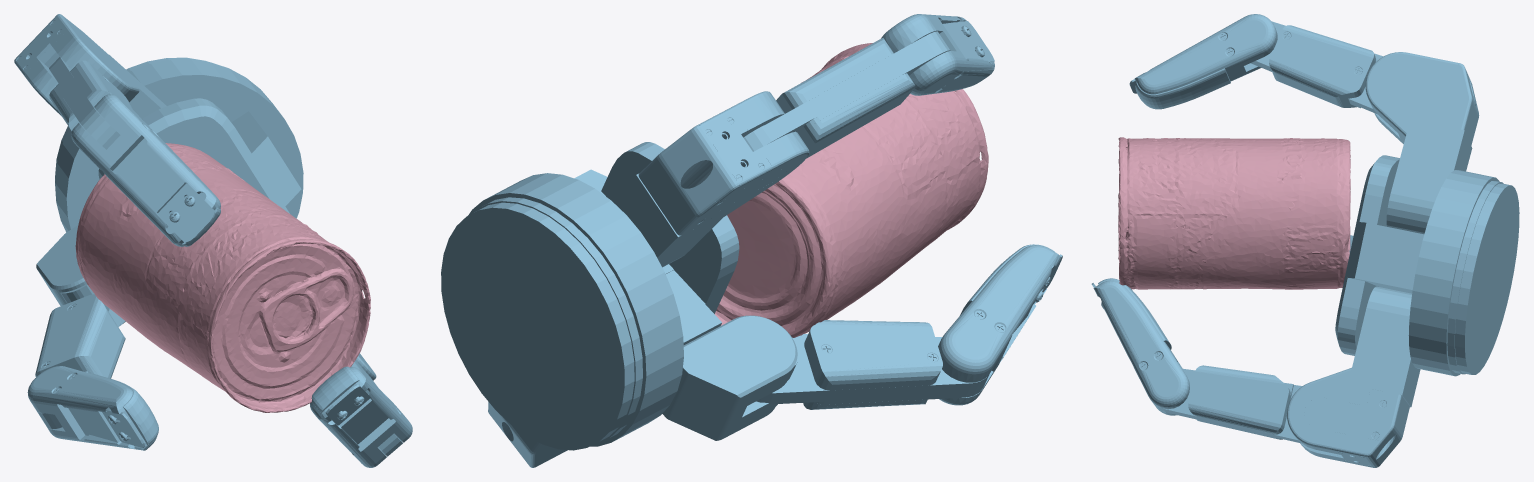
3 renders of one model, left to right at view 1: azimuth 30°, elevation 25°; view 2: azimuth 150°, elevation 25°; view 3: azimuth 270°, elevation 25°, orthographic. The views are drawn at different scales.
Parts seen in each view (by area): view 1: world, tomato_soup_can.stl; view 2: world, tomato_soup_can.stl; view 3: world, tomato_soup_can.stl.
Part boxes in pixels (<box>): world: <box>14,14,412,467</box>; tomato_soup_can.stl: <box>75,143,370,412</box>; world: <box>441,14,1062,467</box>; tomato_soup_can.stl: <box>714,43,988,337</box>; world: <box>1091,14,1519,467</box>; tomato_soup_can.stl: <box>1118,137,1350,289</box>.
Bounding box in the file's own units: 0.1625 × 0.1665 × 0.1876.
